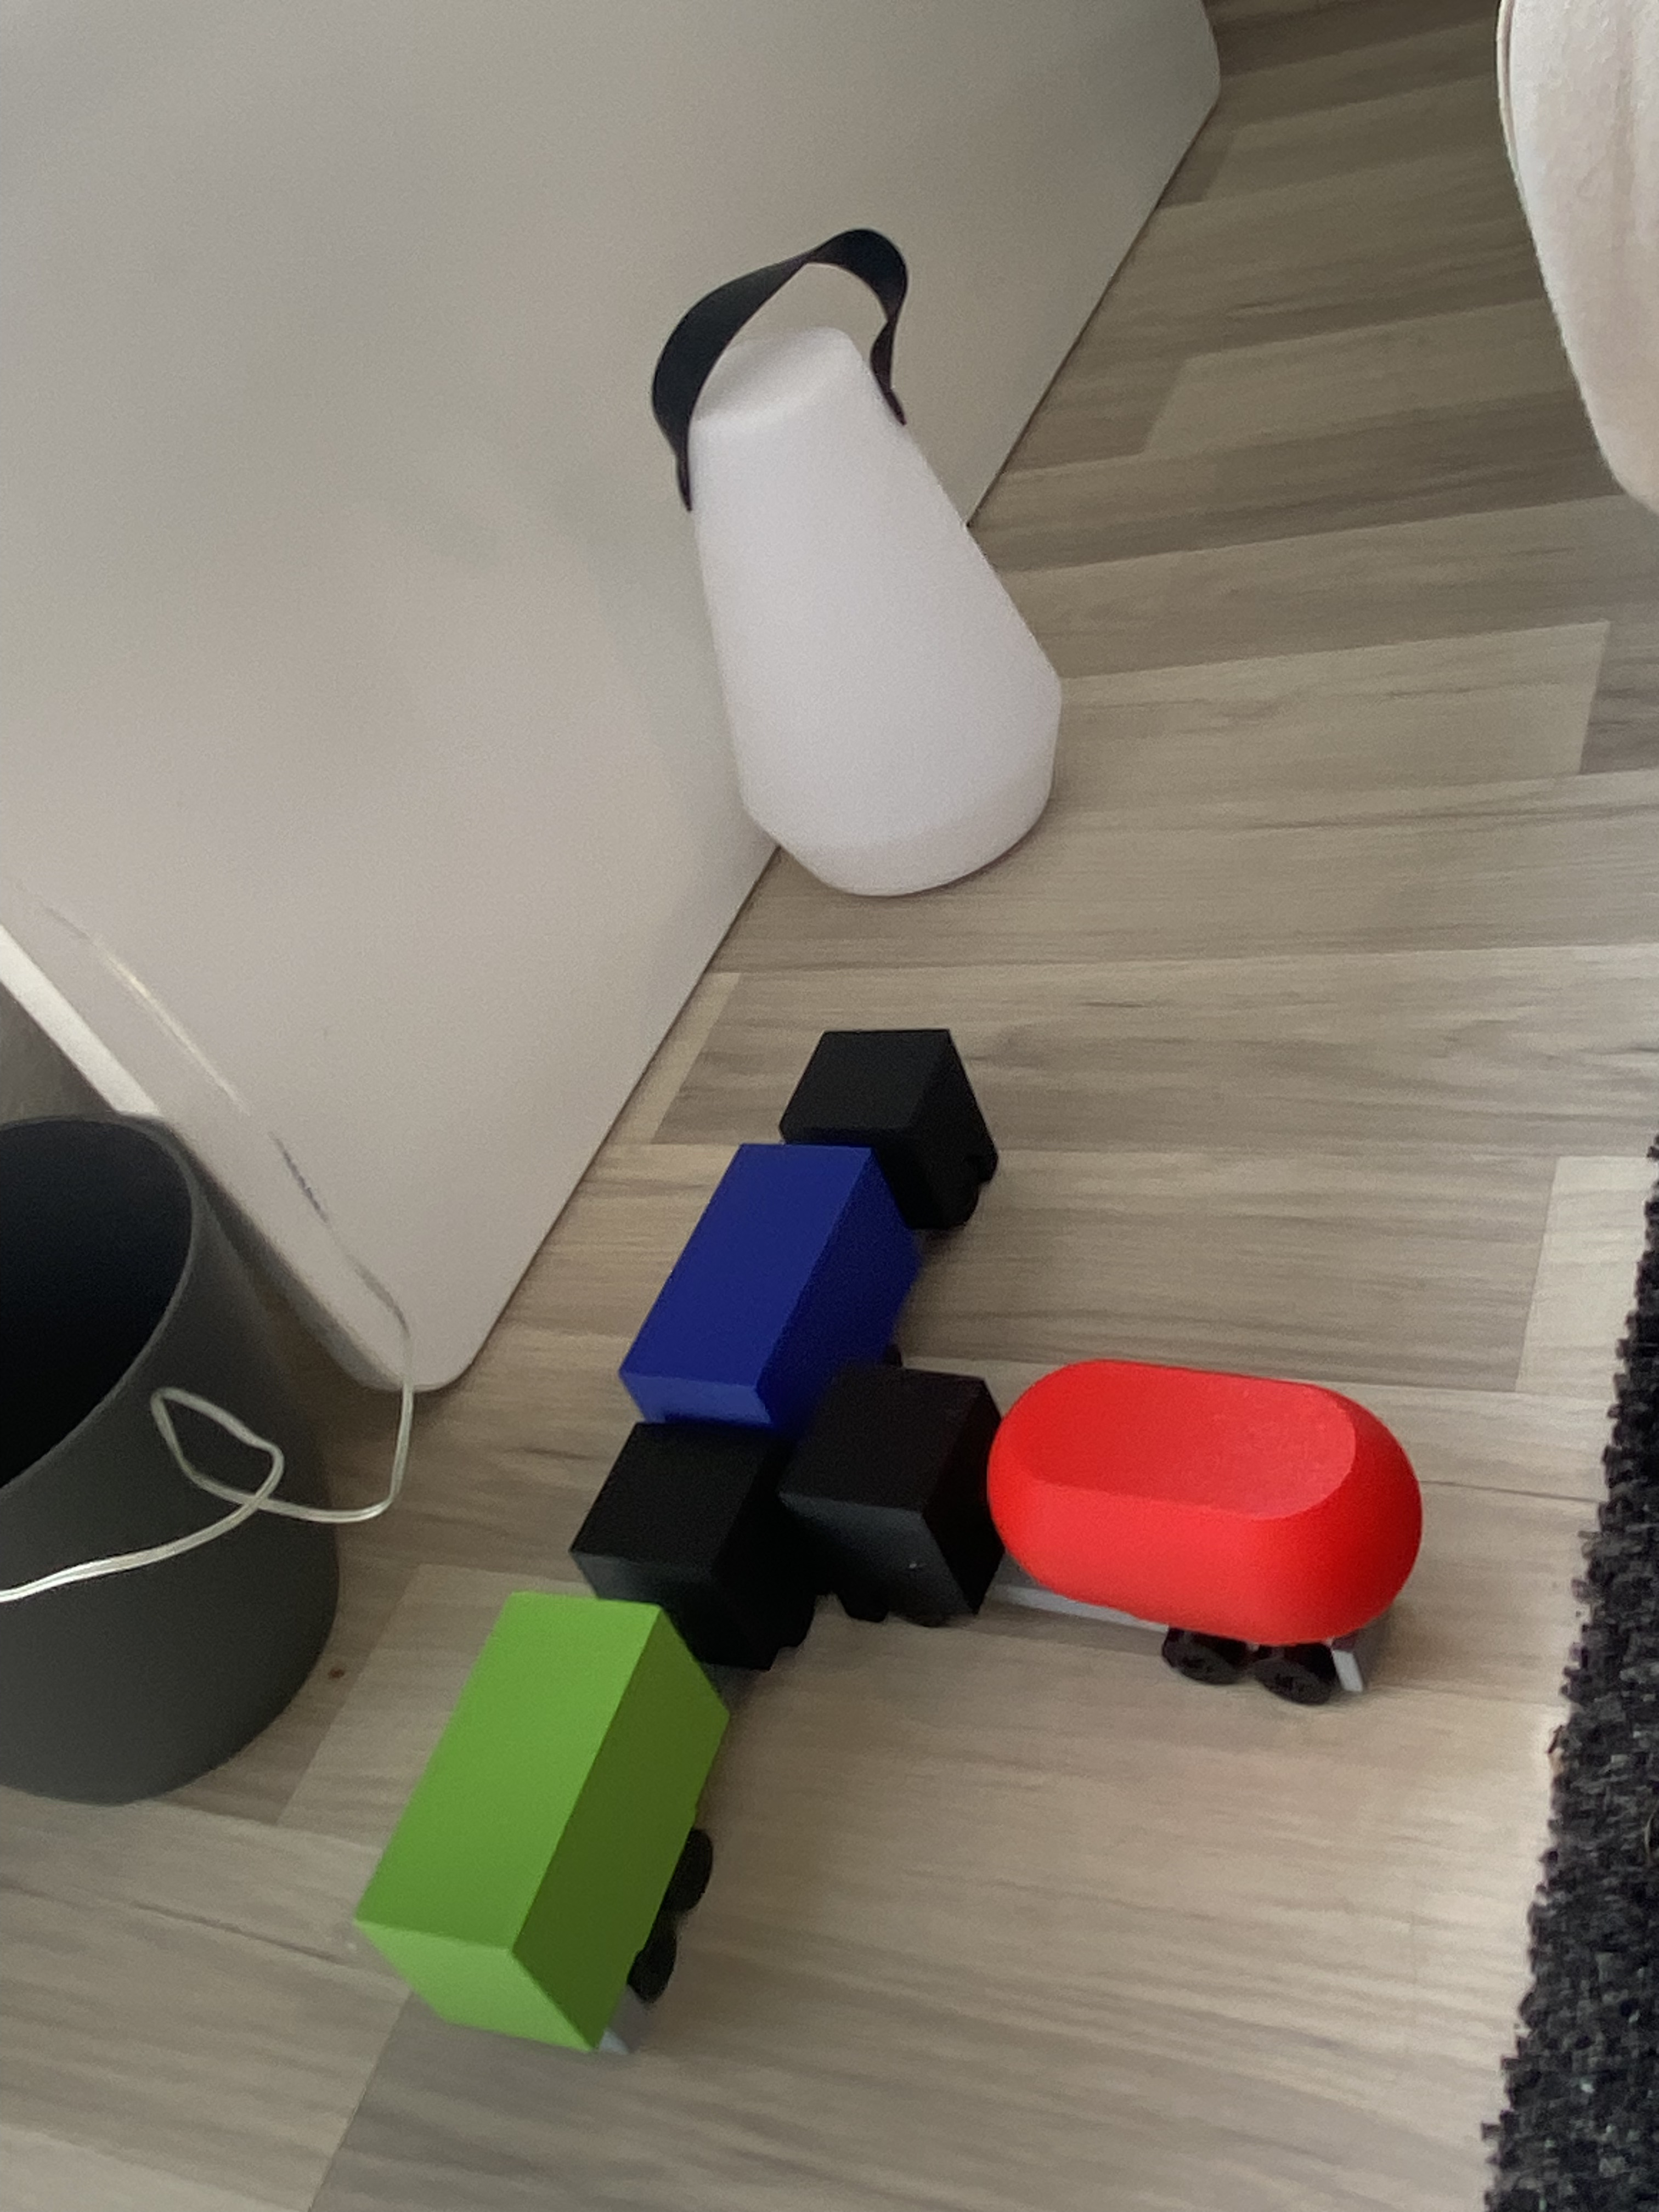blue_truck: (702, 989, 946, 1453)
green_truck: (451, 1406, 753, 2045)
red_truck: (941, 1204, 1283, 1829)
